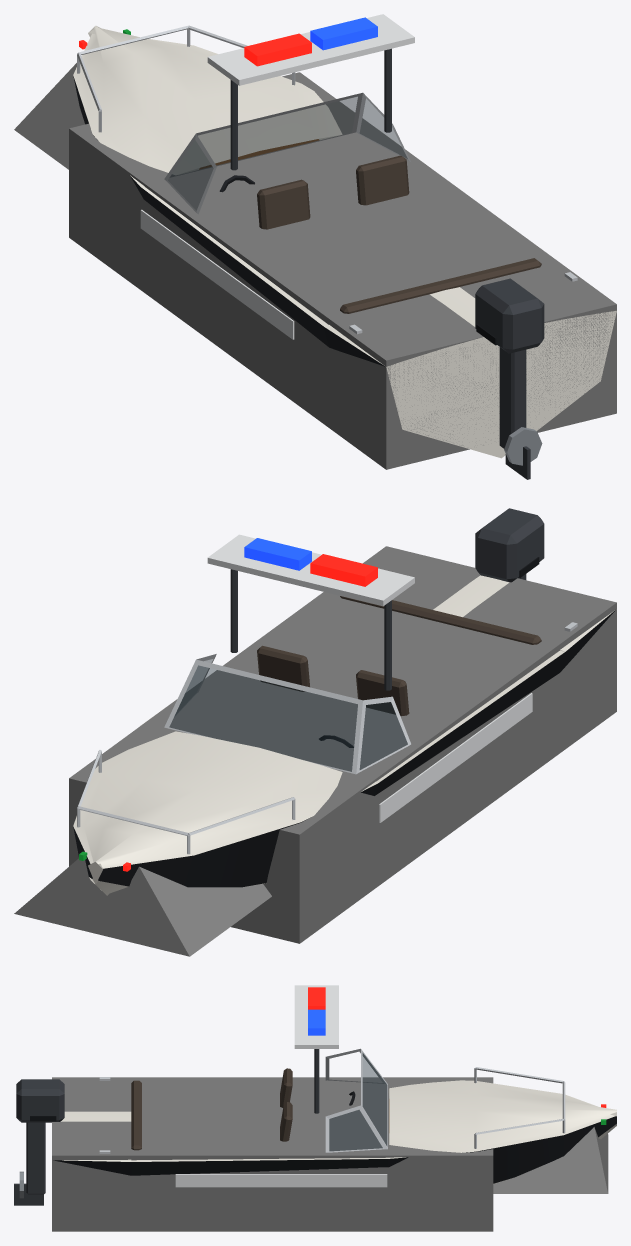
File: policeboat.glb
The picture shows the model from 3 angles, top to bottom: view 1: azimuth 30°, elevation 25°; view 2: azimuth 150°, elevation 25°; view 3: azimuth 270°, elevation 25°; orthographic projection. The views are drawn at different scales.
Parts seen in each view (by area): view 1: policeboat, policeboat_Body, policeboat_Motor; view 2: policeboat, policeboat_Body, policeboat_Motor; view 3: policeboat, policeboat_Body, policeboat_Motor.
Boxes of the visible parts, <box> form: policeboat: <box>14,63,616,469</box>; policeboat_Body: <box>73,14,616,458</box>; policeboat_Motor: <box>475,278,544,479</box>; policeboat: <box>14,546,616,956</box>; policeboat_Body: <box>73,534,616,895</box>; policeboat_Motor: <box>475,508,544,582</box>; policeboat: <box>52,1077,608,1231</box>; policeboat_Body: <box>53,985,616,1187</box>; policeboat_Motor: <box>14,1079,64,1205</box>.
Bounding box in the file's own units: 2.2 × 2.49 × 6.83.
